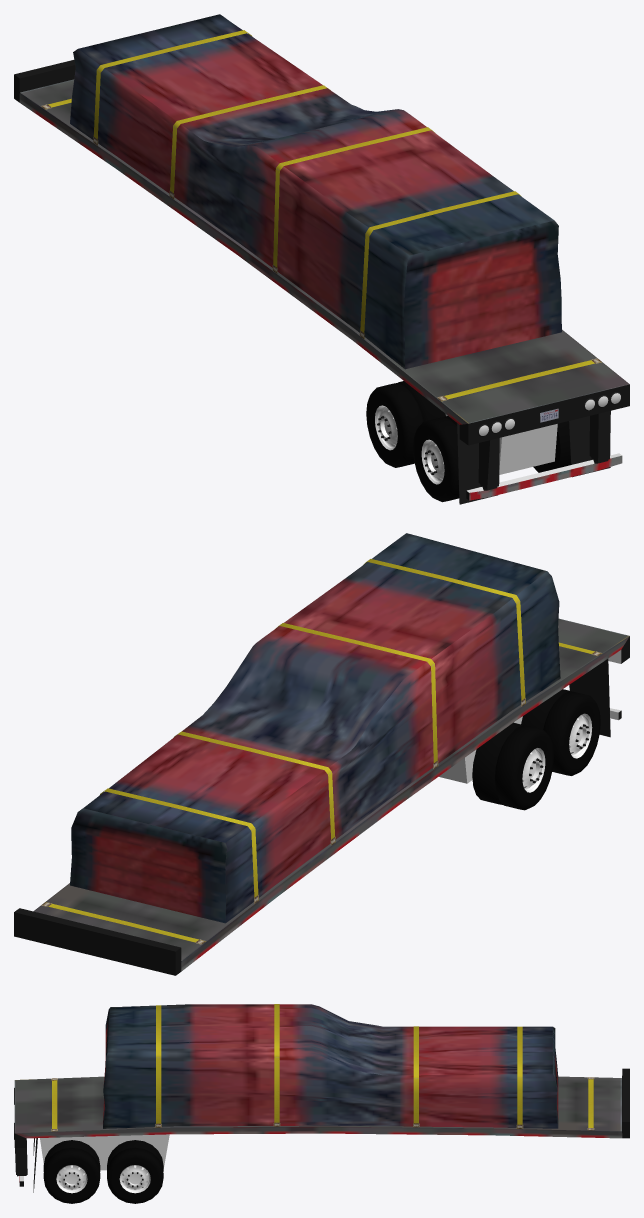
Rendered from va_semitruck_00_flatloaded.glb.
3 views of the same model, one above another, from view 1: azimuth 30°, elevation 25°; view 2: azimuth 150°, elevation 25°; view 3: azimuth 270°, elevation 25° (orthographic). The views are drawn at different scales.
Parts seen in each view (by area): view 1: va_semitruck_00_flatloaded/resources/vehicle/va_semitruck_00 (×6); view 2: va_semitruck_00_flatloaded/resources/vehicle/va_semitruck_00 (×5); view 3: va_semitruck_00_flatloaded/resources/vehicle/va_semitruck_00 (×5).
Boxes of the visible parts, x1,y1,x2,y2 form: va_semitruck_00_flatloaded/resources/vehicle/va_semitruck_00 (×6): (14, 14, 629, 504); va_semitruck_00_flatloaded/resources/vehicle/va_semitruck_00 (×5): (14, 533, 629, 975); va_semitruck_00_flatloaded/resources/vehicle/va_semitruck_00 (×5): (14, 1004, 629, 1203).
Bounding box in the file's own units: 2.61 × 3.47 × 12.71.
Materials: 9 (7 with a texture image).
